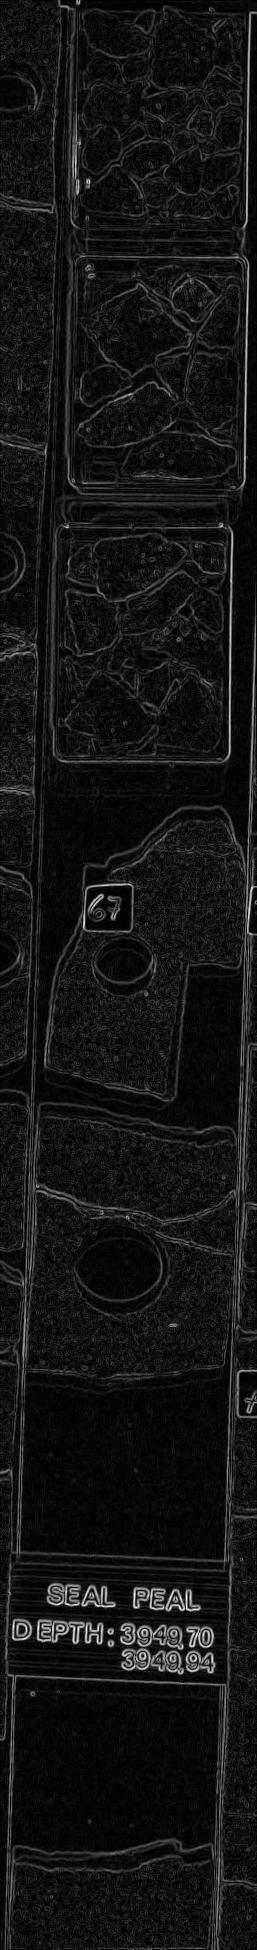hplug: (87, 931, 169, 997)
scal: (67, 1214, 171, 1319)
